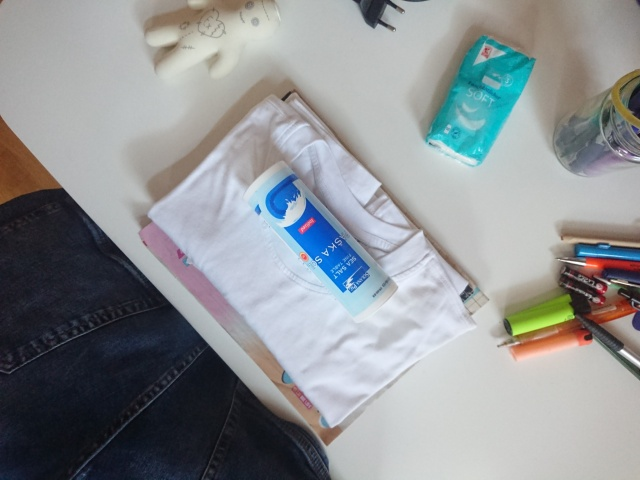Solana Pag Fine Sea Salt 250g: (241, 158, 402, 327)
